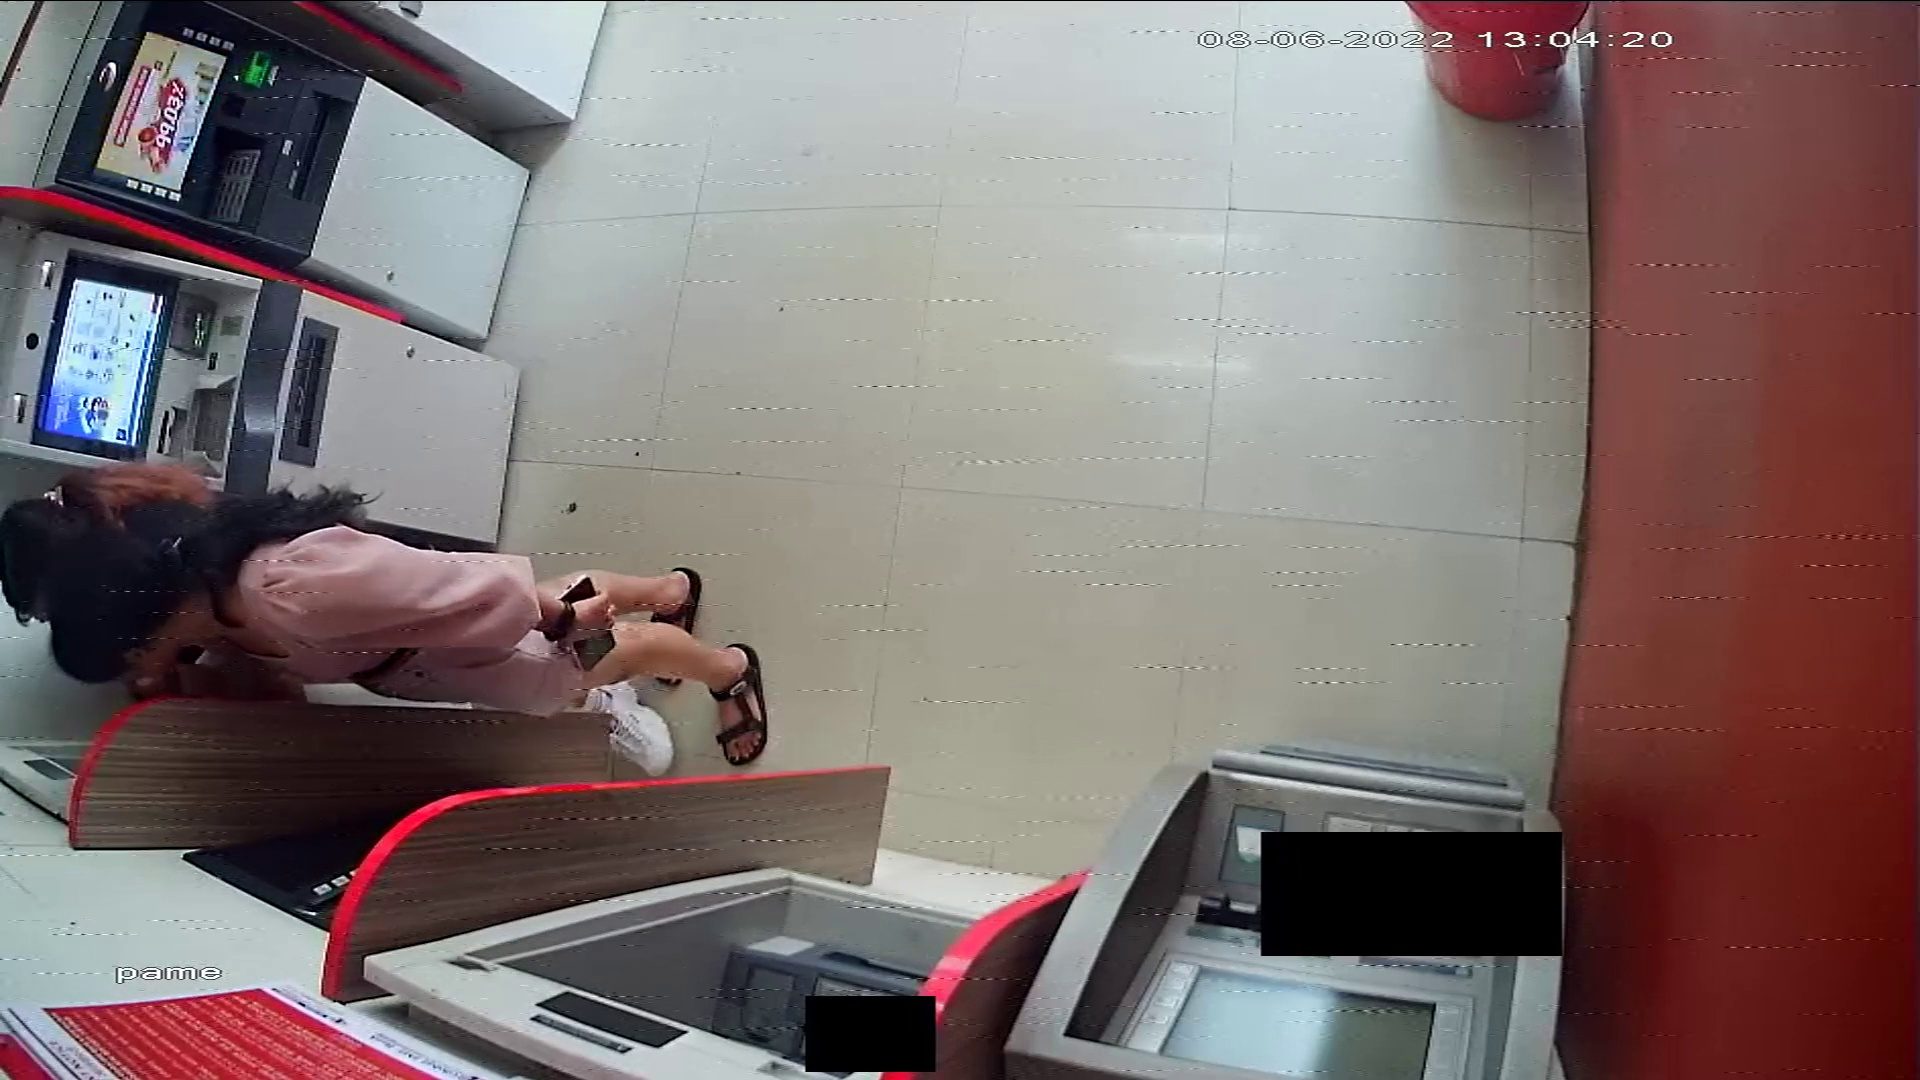person: (1, 461, 774, 765)
phone: (557, 575, 621, 668)
